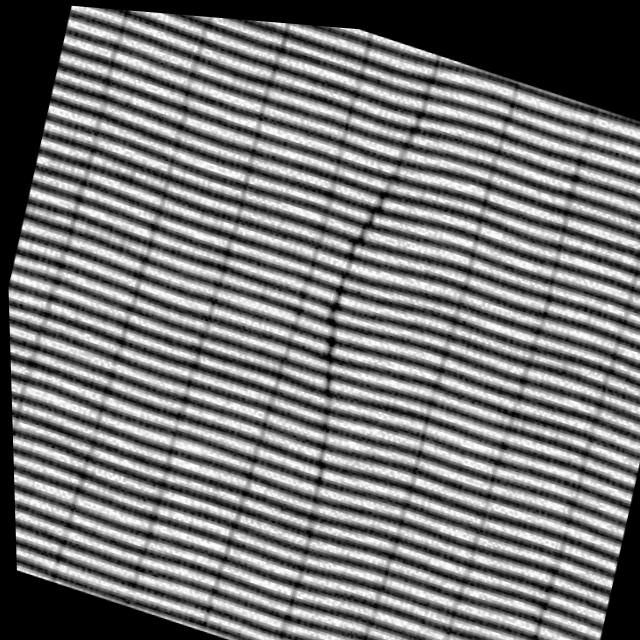Stitch: (246, 17, 476, 521)
